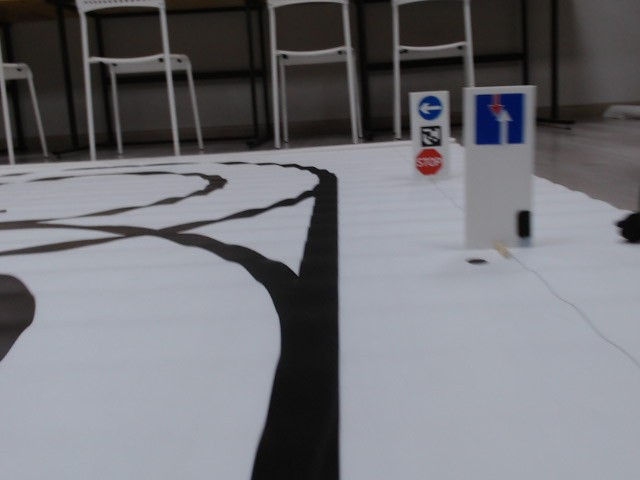Stop: (414, 149, 444, 174)
priority_movement: (472, 93, 528, 146)
